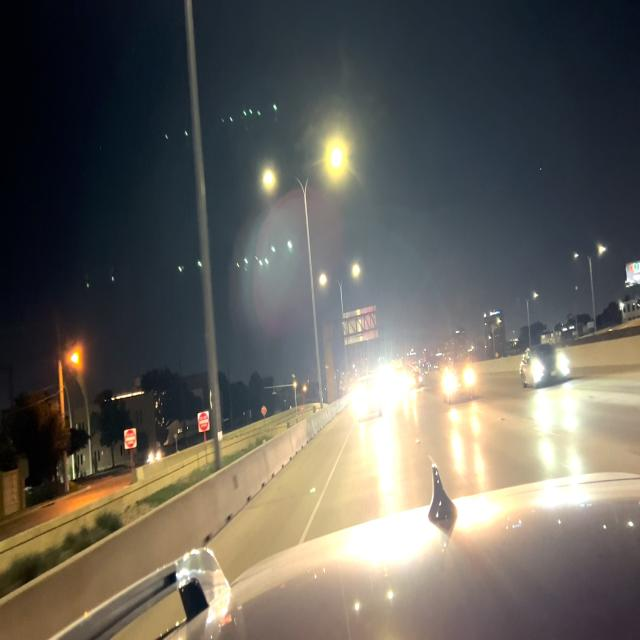back-of-sign: (341, 302, 379, 348)
